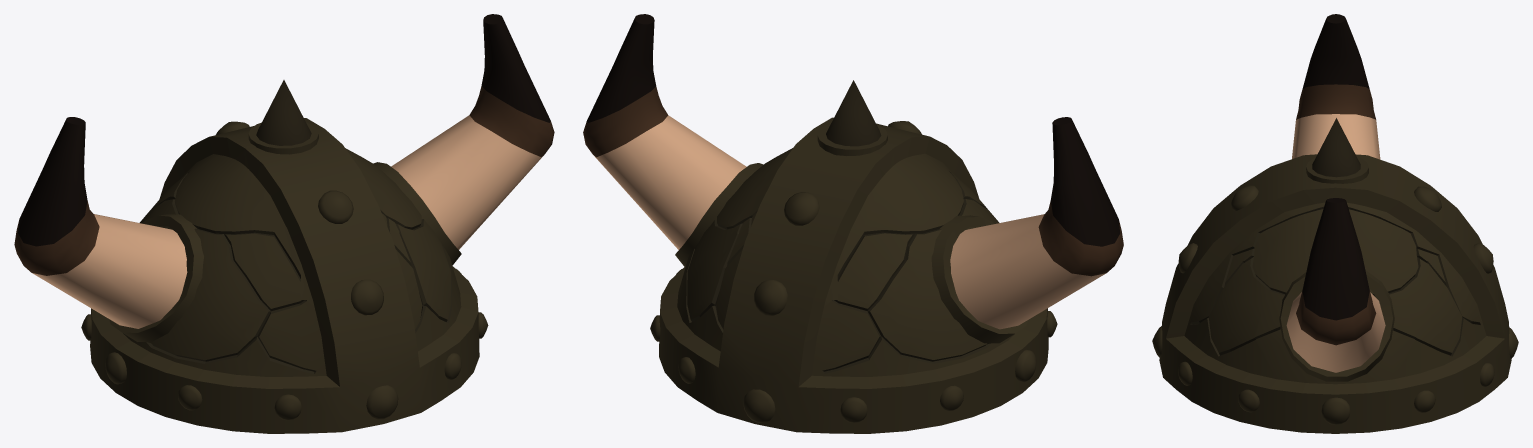
Rendered from VikingHelmet.fbx.
3 views of the same model, side by side, from view 1: azimuth 30°, elevation 25°; view 2: azimuth 150°, elevation 25°; view 3: azimuth 270°, elevation 25° (orthographic). The views are drawn at different scales.
Visible parts, largest first — view 1: VikingHelmet; view 2: VikingHelmet; view 3: VikingHelmet.
Boxes of the visible parts, x1,y1,x2,y2 form: VikingHelmet: (14,14,554,433); VikingHelmet: (583,14,1123,433); VikingHelmet: (1152,14,1518,433).
Size of the model in its own units: 127 by 65.24 by 86.
